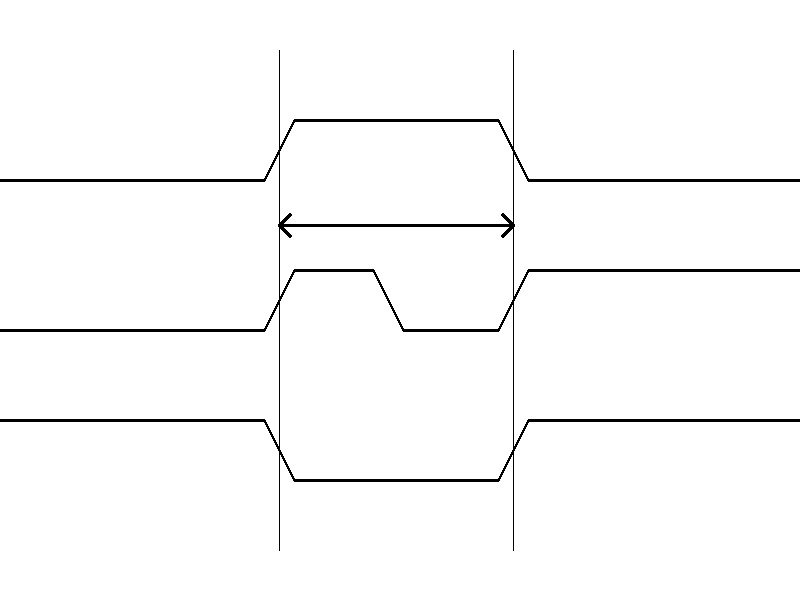double_arrow: (279, 210, 513, 240)
